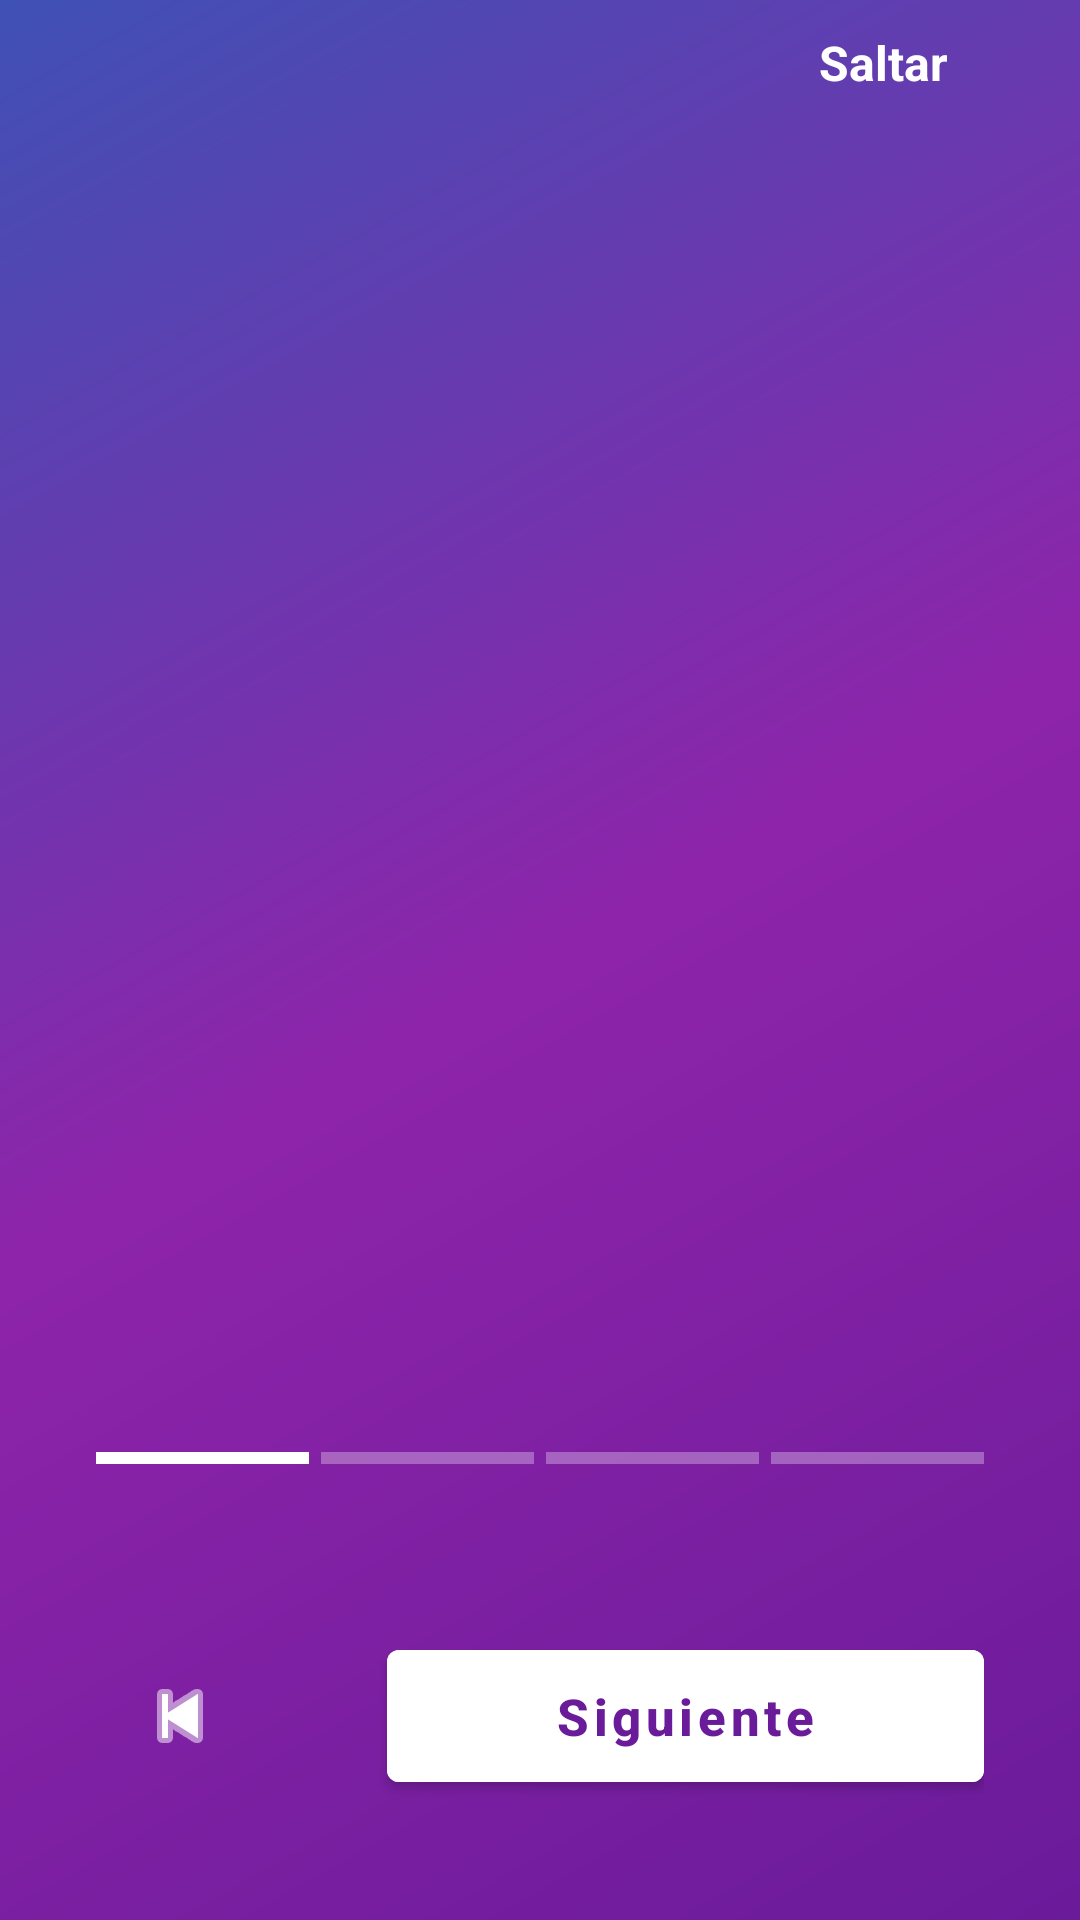

Named icons in this screenshot (1080*1920) and their bounding boxes, {"x1": x1, "y1": y1, "x2": x2, "y2": y2}:
Anterior: {"x1": 157, "y1": 1689, "x2": 203, "y2": 1743}
